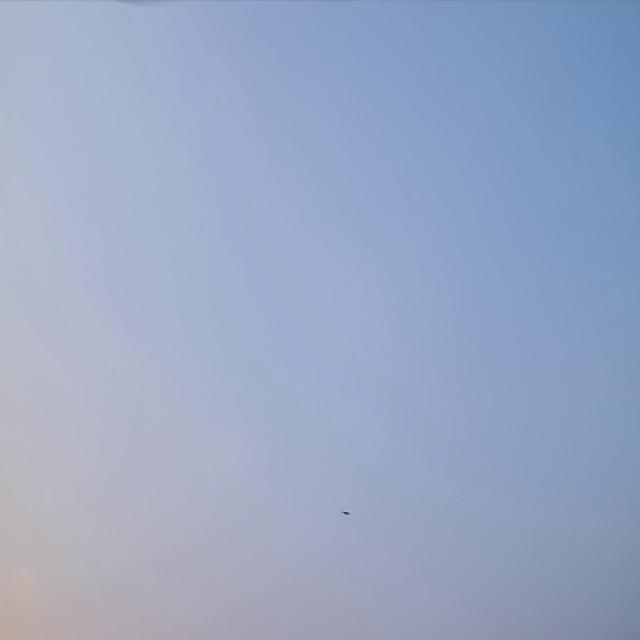UAV: (341, 509, 351, 516)
